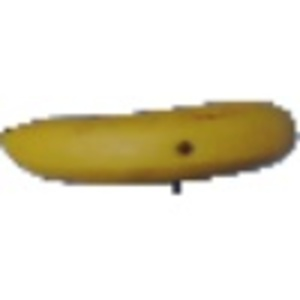banana: (1, 95, 296, 189)
